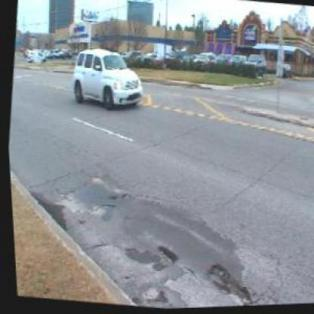Hueco: (200, 260, 254, 308), (154, 243, 178, 265), (119, 190, 129, 203), (105, 191, 115, 200)
